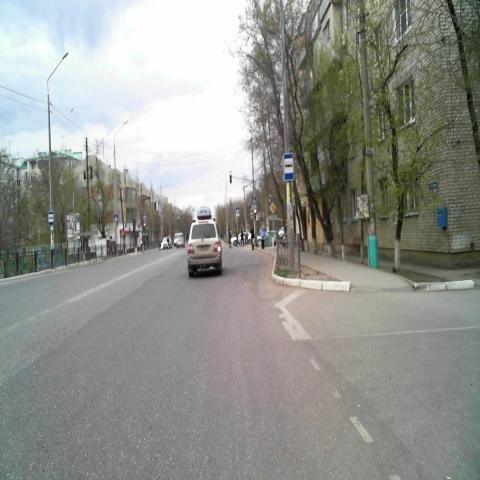5_16: (283, 152, 294, 181)
